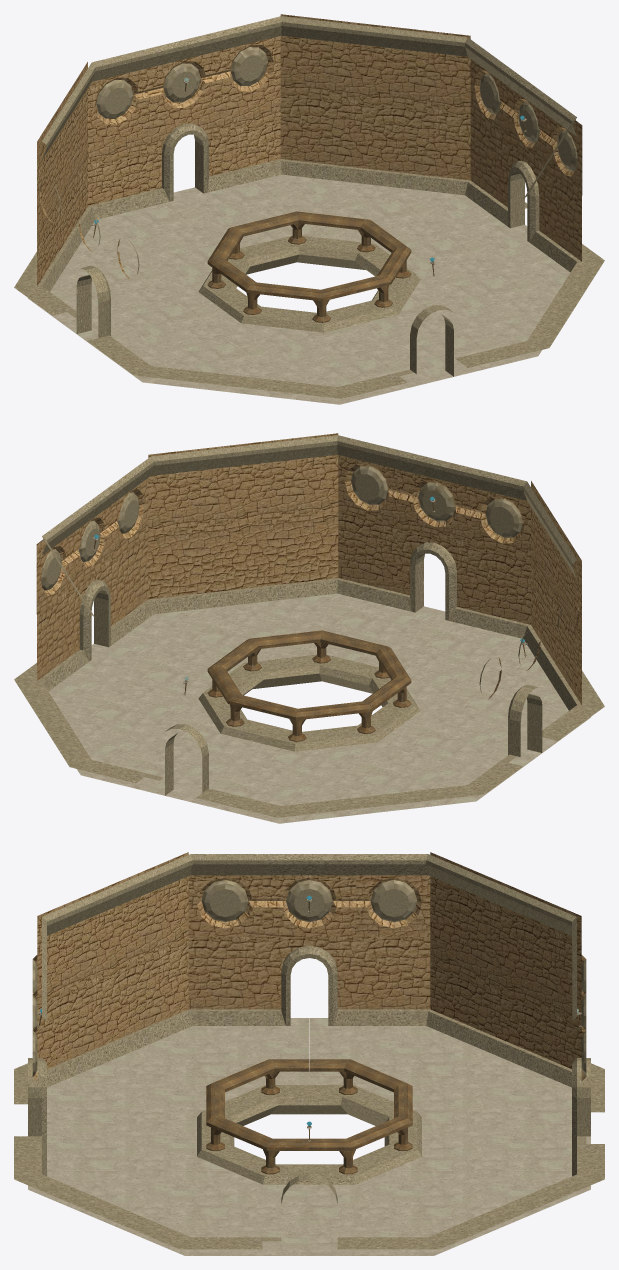
File: libraryMainRoom2.glb
3 views of the same model, one above another, from view 1: azimuth 30°, elevation 25°; view 2: azimuth 150°, elevation 25°; view 3: azimuth 270°, elevation 25° (orthographic). The views are drawn at different scales.
Parts seen in each view (by area): view 1: floorCol, lowerwallCol, object1.031, object1.005, object1.045, object1, object1.004, object1.023, object1.039, object1.030, object1.001, object1.009 (+18 smaller); view 2: floorCol, lowerwallCol, object1.040, object1.006, object1.023, object1.050, object1.039, object1.045, object1.017, object1.004, object1.049, object1.016 (+18 smaller); view 3: floorCol, lowerwallCol, object1.009, object1.015, object1.002, object1.020, object1.017, object1.023, object1.045, object1.007, object1.019, object1.004 (+15 smaller).
Part boxes in pixels (x1,y1,x2,y2): floorCol: (28, 174, 570, 404); lowerwallCol: (37, 92, 581, 285); object1.031: (280, 14, 470, 113); object1.005: (149, 16, 500, 80); object1.045: (222, 159, 503, 218); object1: (145, 50, 221, 124); object1.004: (96, 342, 407, 398); object1.023: (470, 237, 604, 364); object1.039: (14, 191, 150, 315); object1.030: (219, 36, 280, 106); object1.001: (88, 68, 146, 139); object1.009: (37, 62, 87, 219); floorCol: (48, 593, 590, 823); lowerwallCol: (37, 511, 581, 704); object1.040: (148, 433, 338, 532); object1.006: (75, 435, 394, 531); object1.023: (115, 578, 396, 637); object1.050: (397, 469, 473, 543); object1.039: (211, 761, 522, 817); object1.045: (14, 656, 148, 783); object1.017: (393, 449, 576, 578); object1.004: (468, 610, 604, 734); object1.049: (338, 455, 399, 525); object1.016: (472, 487, 530, 558); floorCol: (28, 1018, 590, 1255); lowerwallCol: (37, 937, 581, 1068); object1.009: (430, 852, 581, 1000); object1.015: (37, 852, 188, 1000); object1.002: (262, 854, 576, 950); object1.020: (262, 875, 356, 936); object1.017: (42, 854, 262, 990); object1.023: (14, 1144, 262, 1249); object1.045: (356, 1144, 604, 1249); object1.007: (356, 875, 430, 936); object1.019: (188, 875, 262, 936); object1.004: (14, 1009, 262, 1104).
Size of the model in its own units: 6.3 by 2.2 by 6.3.
Materials: 38 (34 with a texture image).
